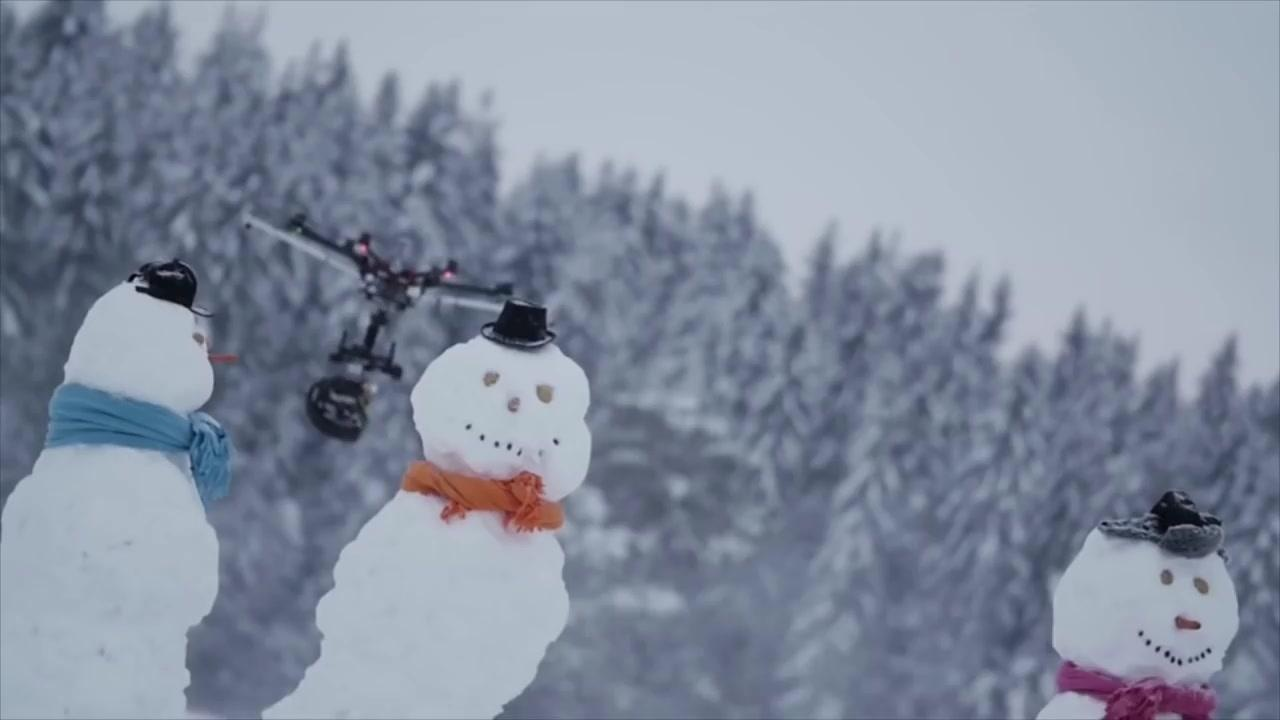UAV: (240, 203, 534, 329)
